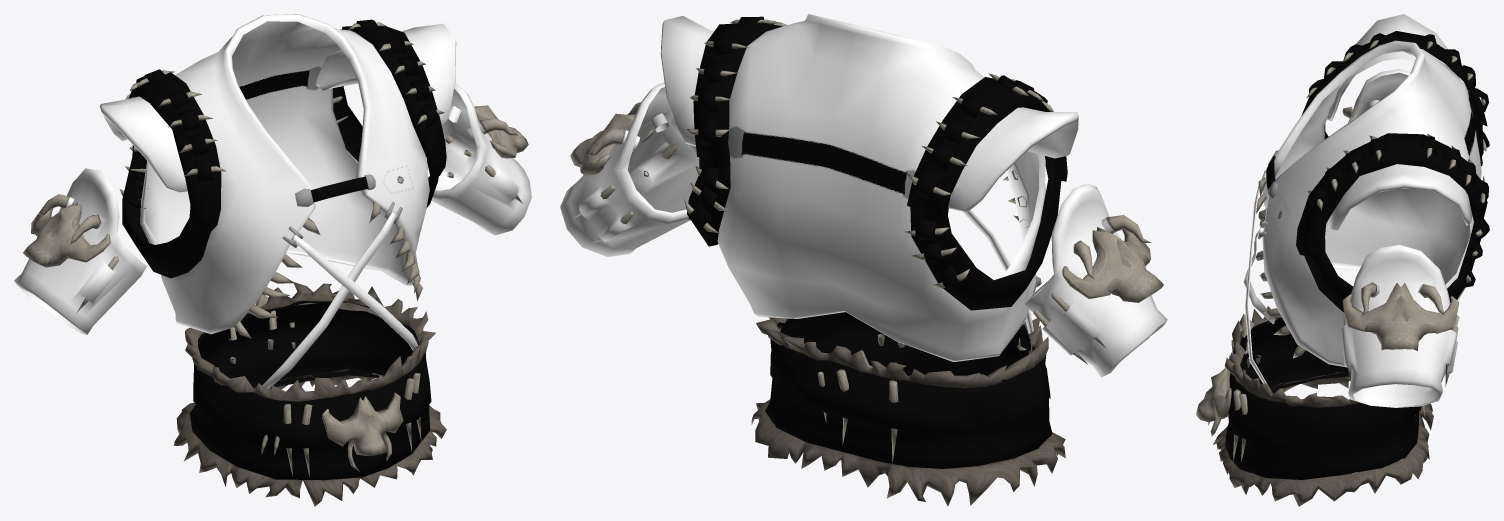
The model's file is SurvivorMale_Chest_Vest_Wasteland_LOD0.glb.
The picture shows the model from 3 angles, left to right: view 1: azimuth 30°, elevation 25°; view 2: azimuth 150°, elevation 25°; view 3: azimuth 270°, elevation 25°; orthographic projection. The views are drawn at different scales.
Parts seen in each view (by area): view 1: Hoodie; view 2: Hoodie; view 3: Hoodie.
Boxes of the visible parts, left/top/right/bottom form: Hoodie: left=14, top=14, right=531, bottom=506; Hoodie: left=560, top=14, right=1167, bottom=506; Hoodie: left=1196, top=14, right=1489, bottom=506.
Bounding box in the file's own units: 0.7393 × 0.5823 × 0.3766.
1 material, 1 textured.
